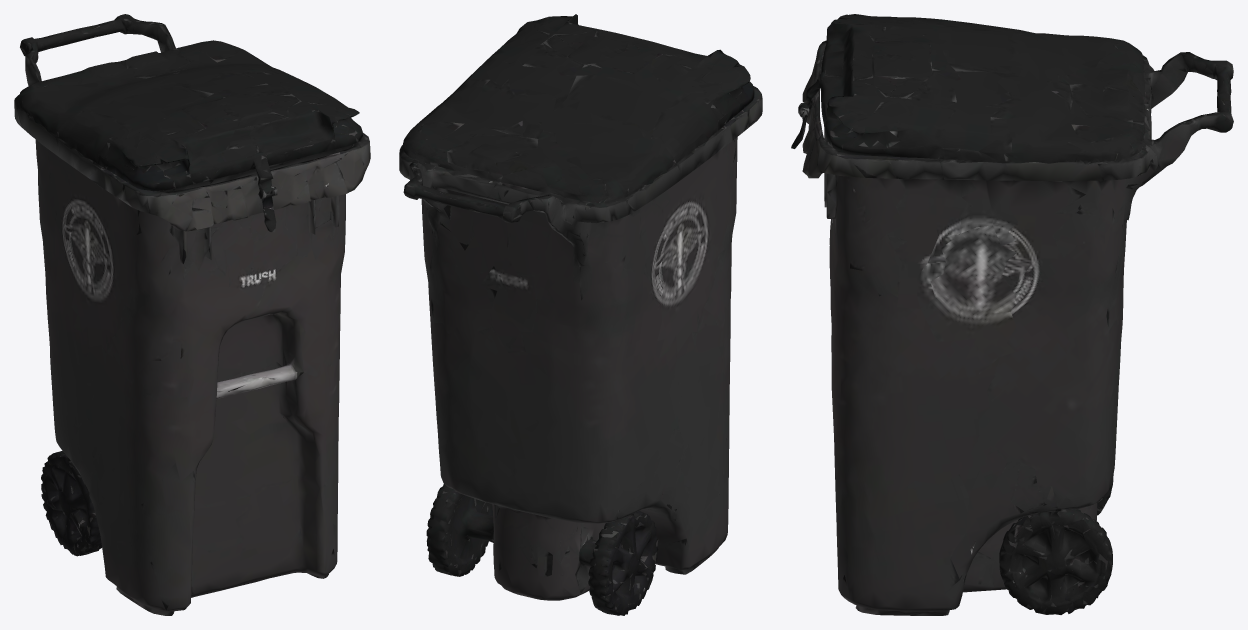
The model's file is nyc_can-compressed.glb.
3 renders of one model, left to right at view 1: azimuth 30°, elevation 25°; view 2: azimuth 150°, elevation 25°; view 3: azimuth 270°, elevation 25°, orthographic. The views are drawn at different scales.
Visible parts, largest first — view 1: mesh_0; view 2: mesh_0; view 3: mesh_0.
Part boxes in pixels (x1,y1,x2,y2): mesh_0: (14,14,370,615); mesh_0: (399,14,762,615); mesh_0: (791,14,1233,615).
Bounding box in the file's own units: 0.9893 × 1.9 × 1.49.
1 material, 1 textured.
